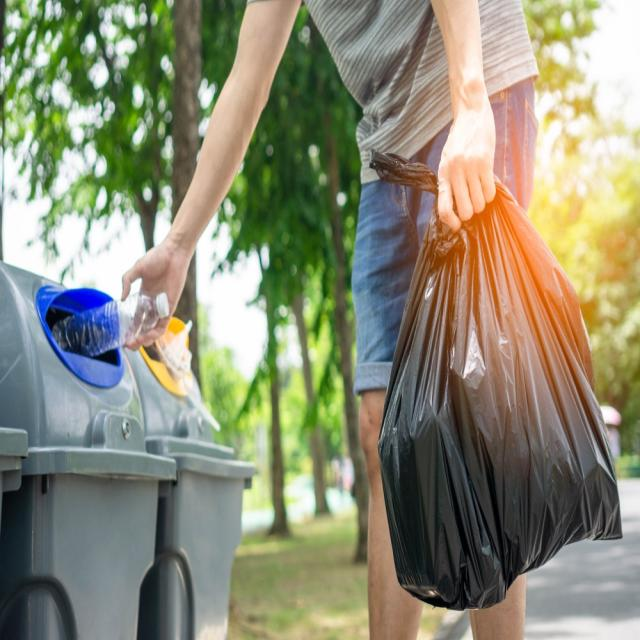sampah-detection: (367, 151, 624, 617)
